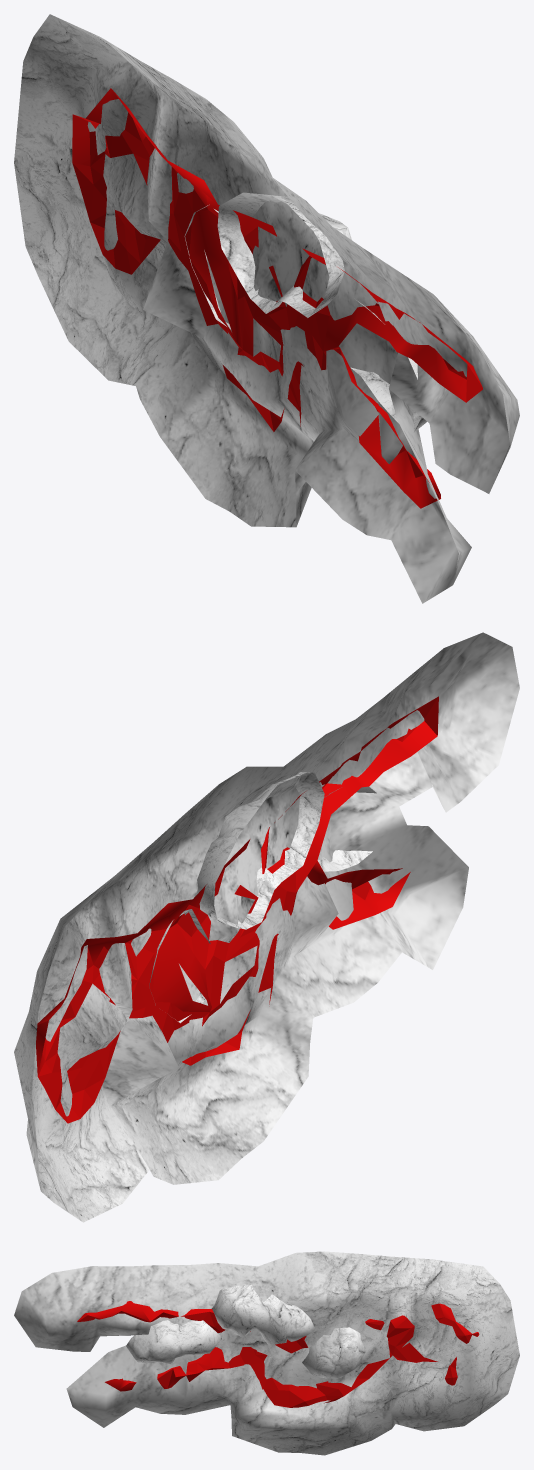
Rendered from Alt_Light_6_TOGETHER_straight_wide.fbx.
The picture shows the model from 3 angles, top to bottom: view 1: azimuth 30°, elevation 25°; view 2: azimuth 150°, elevation 25°; view 3: azimuth 270°, elevation 25°; orthographic projection. The views are drawn at different scales.
Parts seen in each view (by area): view 1: vi_r, vi_e; view 2: vi_r, vi_e; view 3: vi_r, vi_e.
Boxes of the visible parts, left/top/right/bottom form: vi_r: left=14, top=14, right=519, bottom=603; vi_e: left=72, top=88, right=482, bottom=508; vi_r: left=14, top=632, right=519, bottom=1222; vi_e: left=36, top=696, right=438, bottom=1123; vi_r: left=14, top=1251, right=519, bottom=1455; vi_e: left=77, top=1301, right=479, bottom=1407.
Size of the model in its own units: 15.91 by 80.77 by 182.
